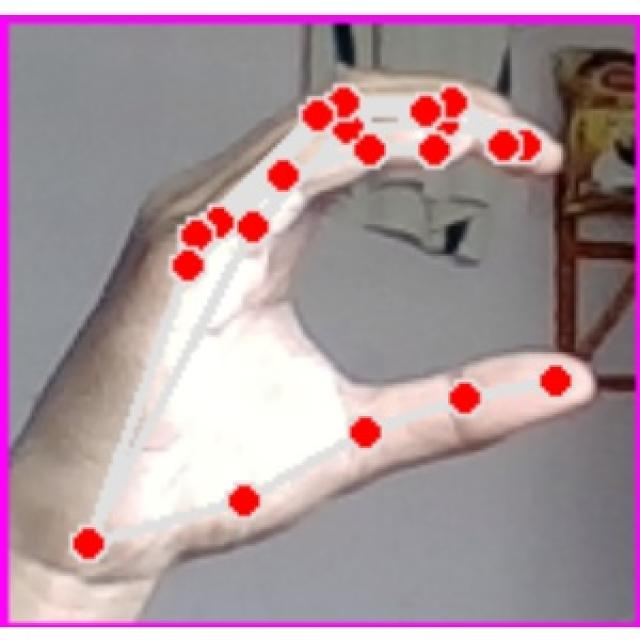C: (20, 35, 612, 603)
